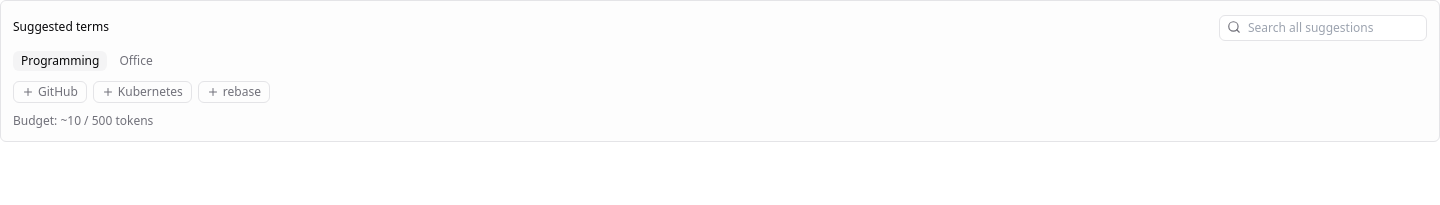
SuggestedTermsPicker › searches across every set
The width and height of the screenshot is (1440, 205).
Type "git" into the field labelled "Search all suggestions" at (1323, 28), box [1219,15,1427,41]
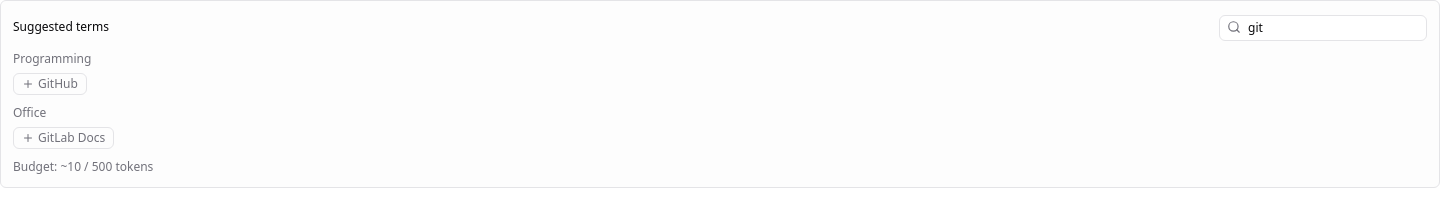
Expected: the button "GitHub" is shown, [13,73,87,95]
Result: the button "GitLab Docs" is shown at [13,127,114,149]
Result: the button "Kubernetes" is gone
